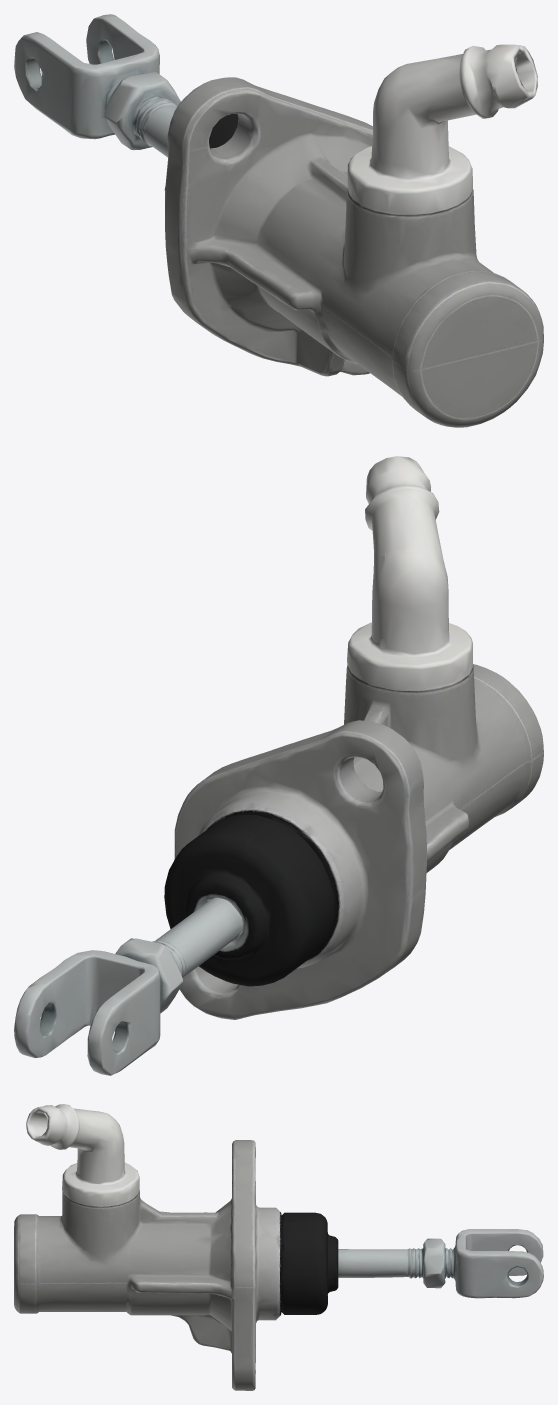
File: clutch-control.glb
The picture shows the model from 3 angles, top to bottom: view 1: azimuth 30°, elevation 25°; view 2: azimuth 150°, elevation 25°; view 3: azimuth 270°, elevation 25°; orthographic projection. The views are drawn at different scales.
Parts seen in each view (by area): view 1: tripo_node_16577546-39c4-4f71-94c3-832e81e02be7; view 2: tripo_node_16577546-39c4-4f71-94c3-832e81e02be7; view 3: tripo_node_16577546-39c4-4f71-94c3-832e81e02be7.
Part boxes in pixels (x1=…): tripo_node_16577546-39c4-4f71-94c3-832e81e02be7: x1=14, y1=14, x2=543, y2=427; tripo_node_16577546-39c4-4f71-94c3-832e81e02be7: x1=14, y1=456, x2=543, y2=1075; tripo_node_16577546-39c4-4f71-94c3-832e81e02be7: x1=14, y1=1104, x2=543, y2=1390.
Size of the model in its own units: 0.3323 by 0.5749 by 1.
Materials: 1 (1 with a texture image).
